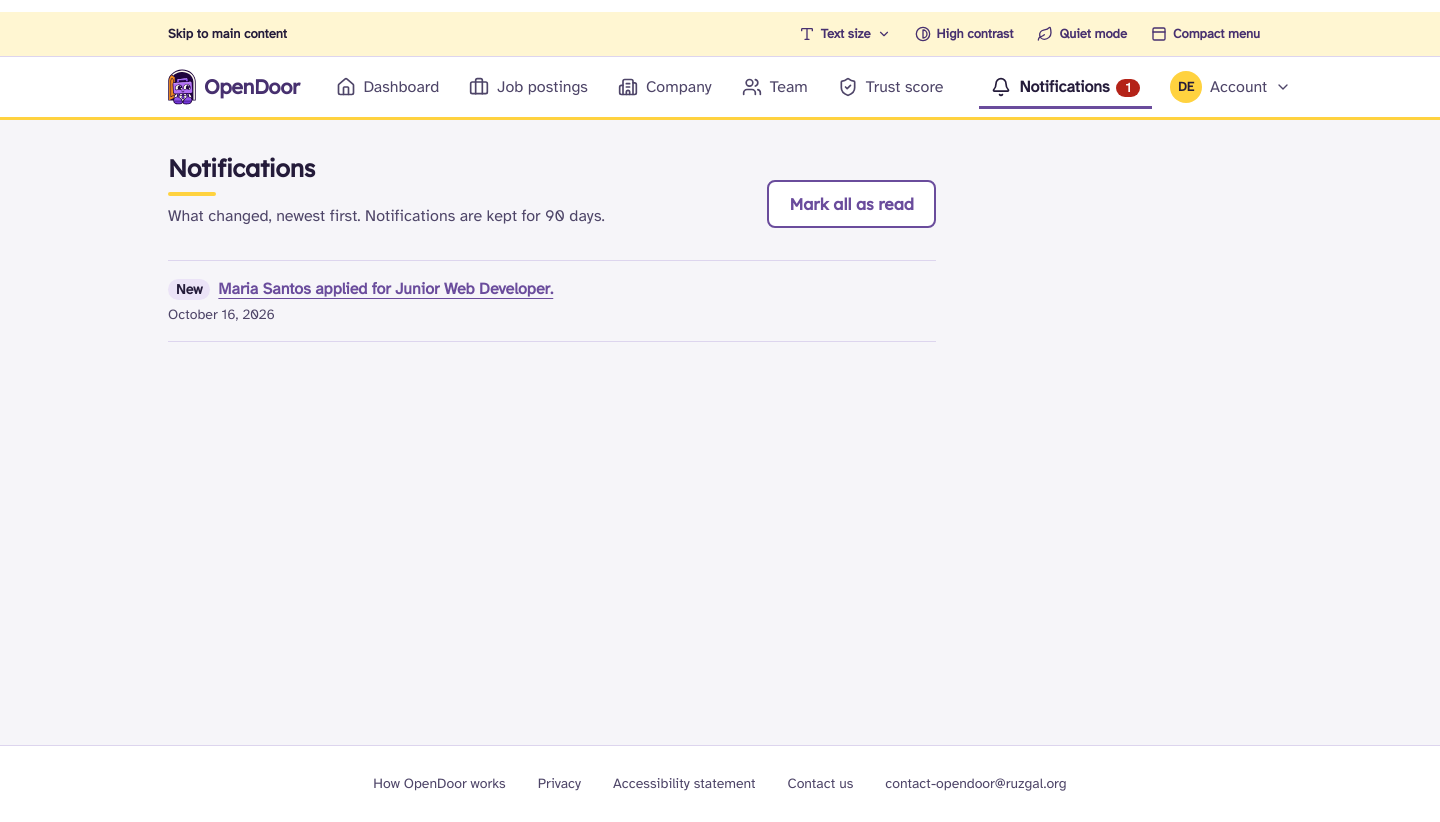
Test: NotificationsPage › marks all as read
Click the button "Mark all as read" at [852, 204], box [767,180,936,228]
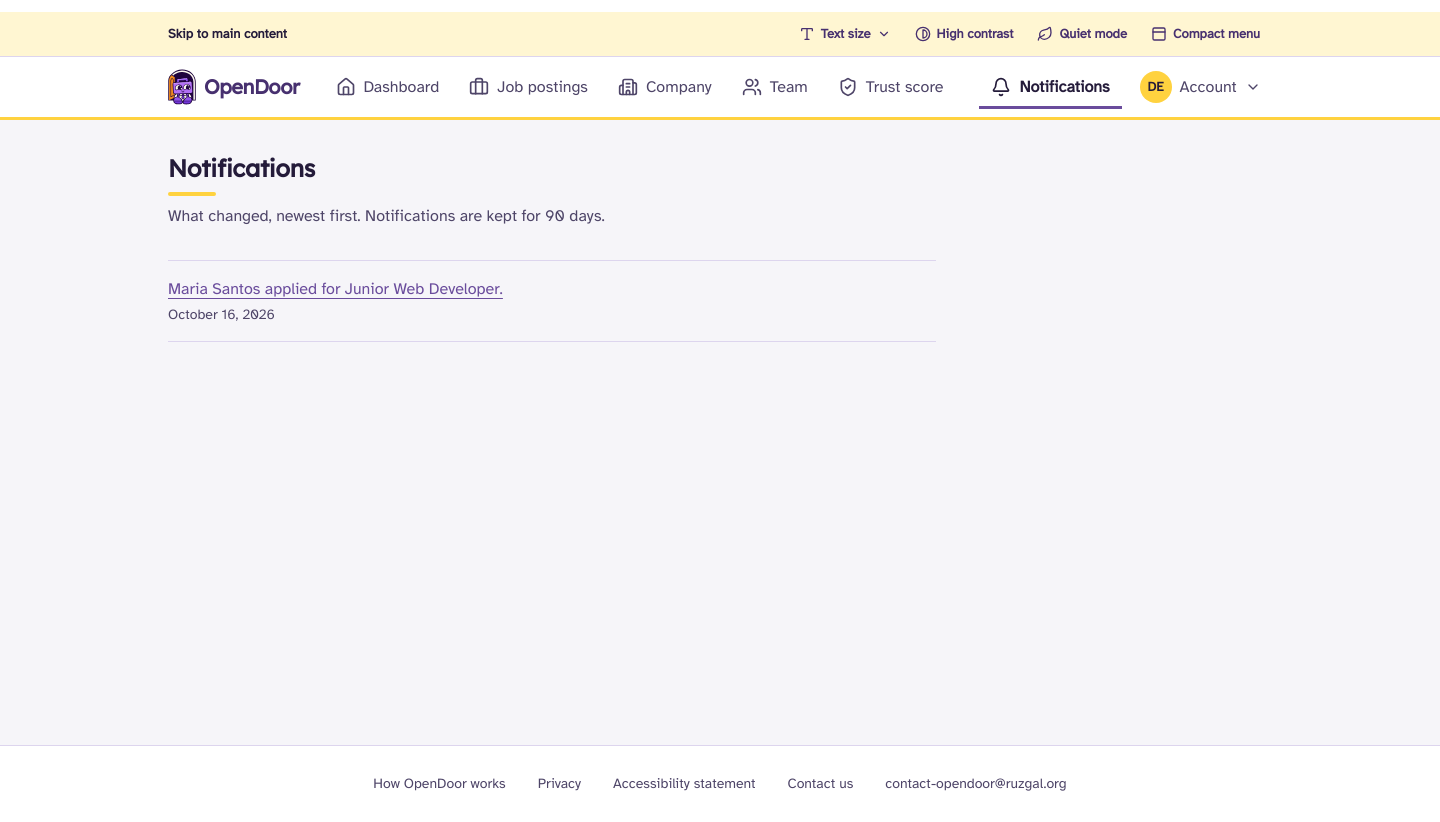
Check: the button "Mark all as read" is gone
